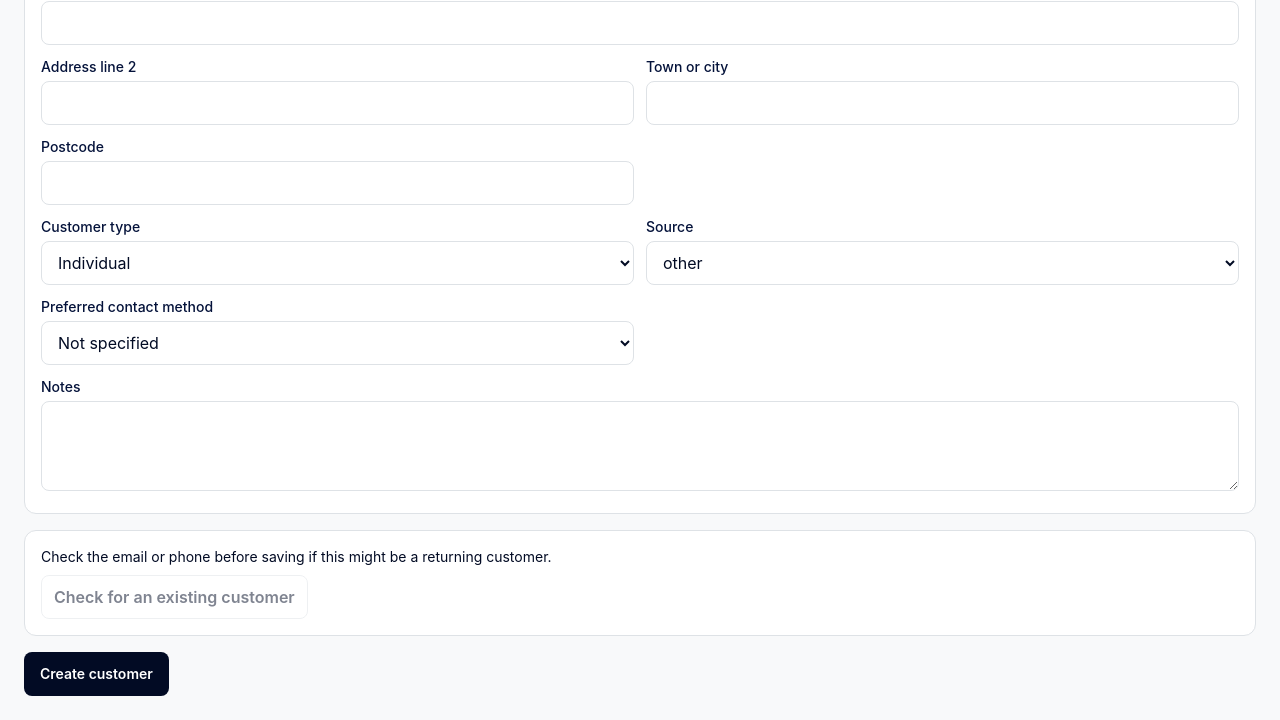
CustomerFormPage — create › requires a name before submitting
The width and height of the screenshot is (1280, 720).
(page scrolled)
Click the button "Create customer" at (96, 674), box [24,652,169,696]
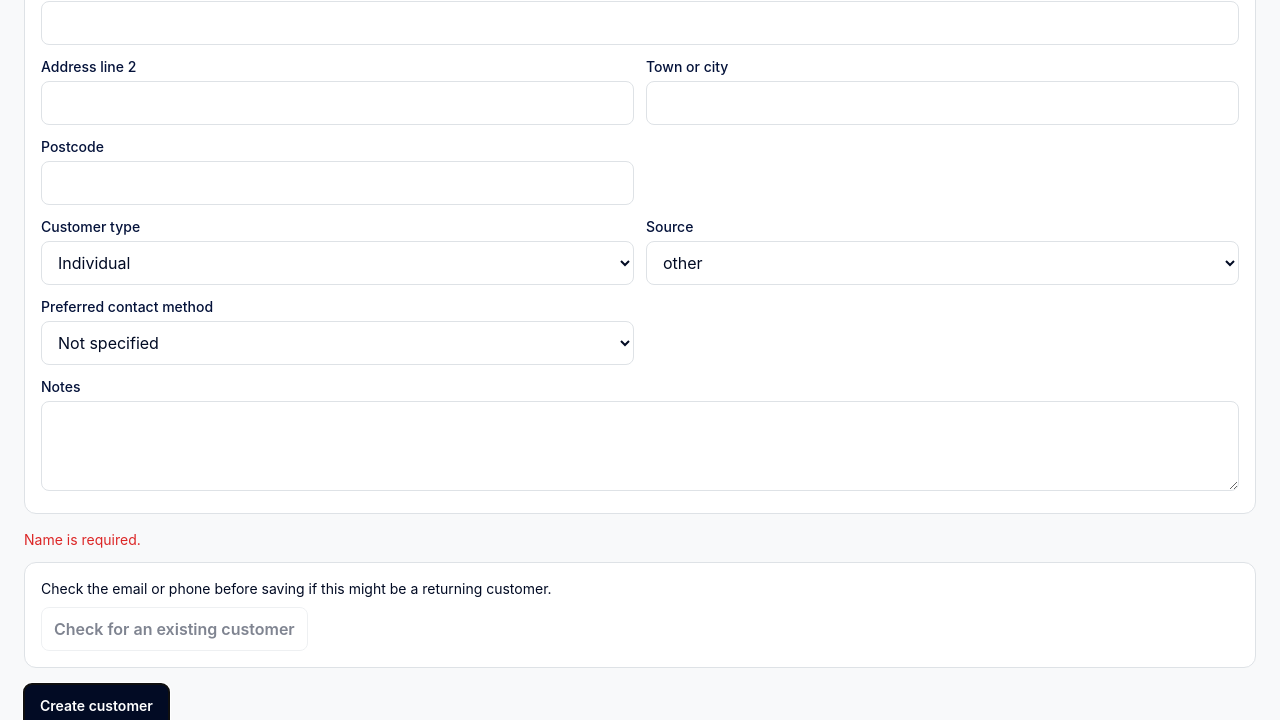
Expected: the message shows "Name is required", [24,531,141,548]
